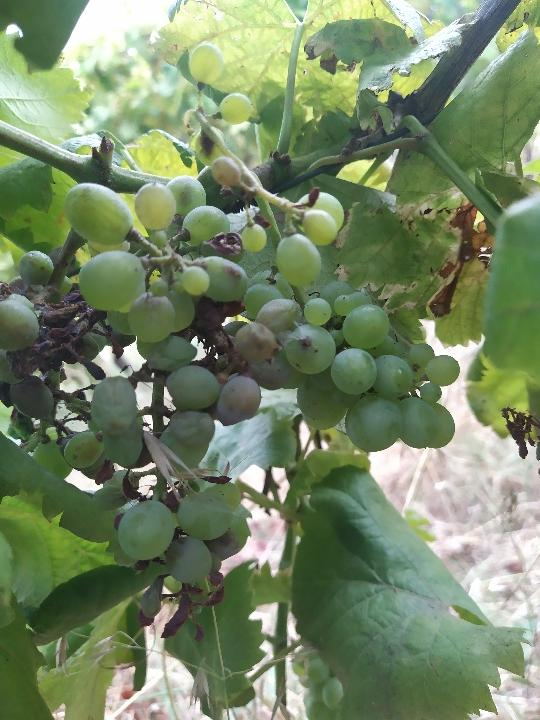grape: (0, 147, 348, 648)
